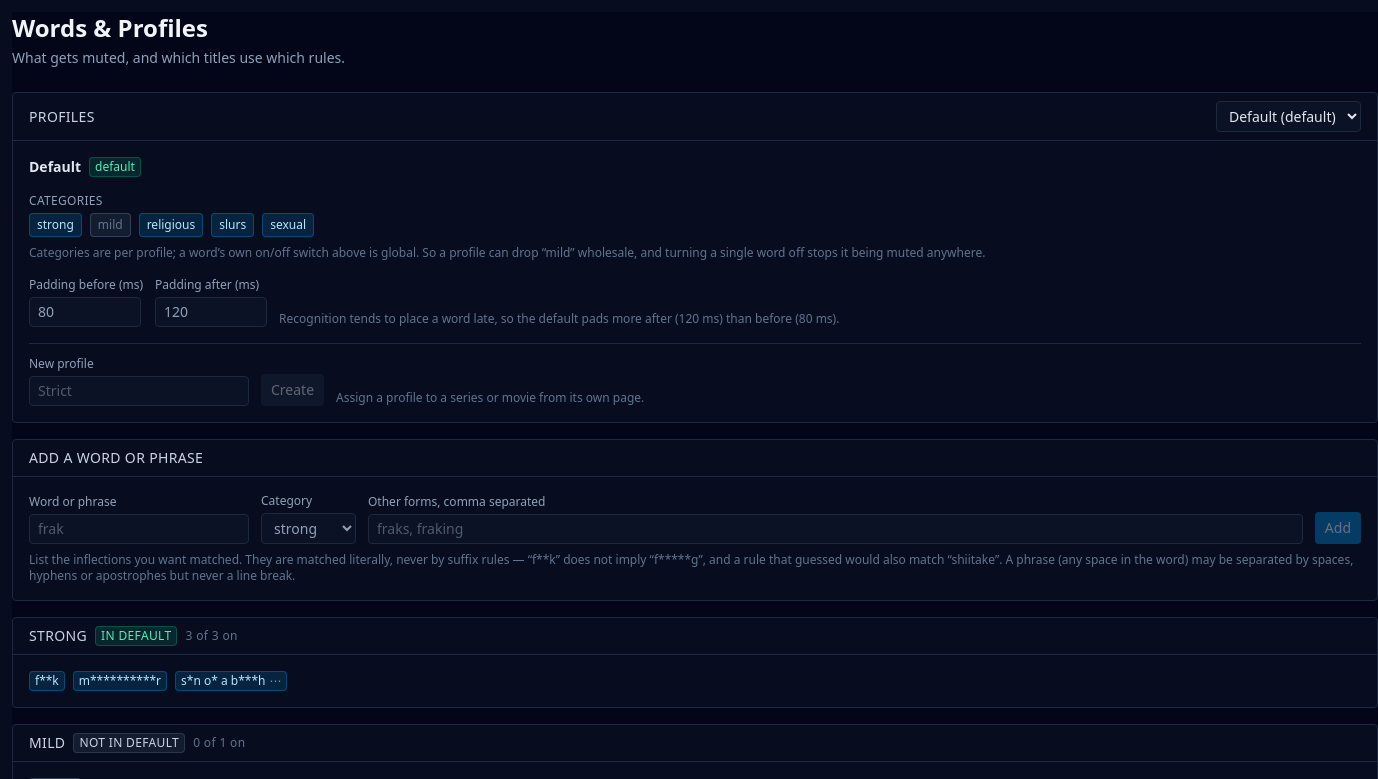
Test case: the word chips › the badges follow the profile the editor is showing
The image size is (1378, 779).
Select "Strict" in the dropdown named "Profile" at (1288, 116), box [1216,101,1361,132]
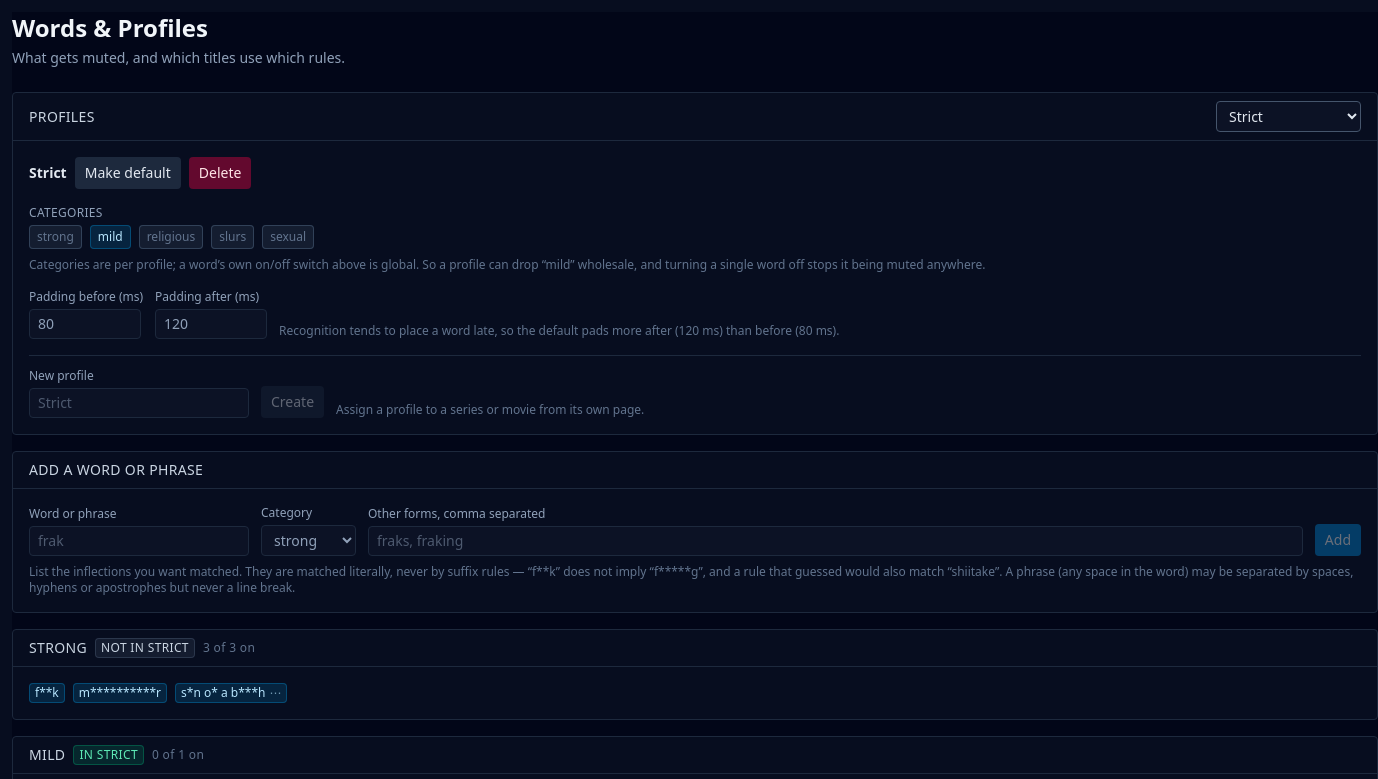
Check: the text "in Strict" is shown, box [73,745,144,765]
Check: the text "not in Strict" is shown 4 times
Check: the text "in Default" is gone
